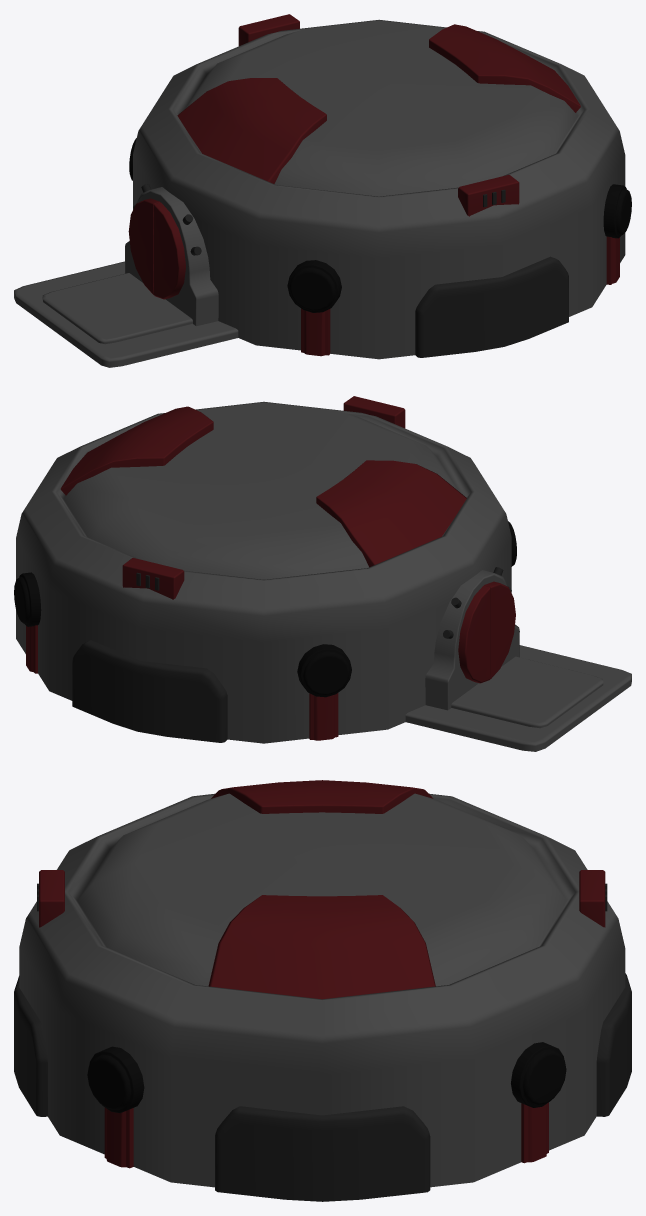
The model's file is colony_Main_house.glb.
3 views of the same model, one above another, from view 1: azimuth 30°, elevation 25°; view 2: azimuth 150°, elevation 25°; view 3: azimuth 270°, elevation 25° (orthographic). The views are drawn at different scales.
Parts seen in each view (by area): view 1: Main_house; view 2: Main_house; view 3: Main_house.
Boxes of the visible parts, bbox=[...] form: Main_house: bbox=[14, 14, 631, 367]; Main_house: bbox=[14, 396, 631, 751]; Main_house: bbox=[14, 780, 631, 1201].
Size of the model in its own units: 1385 by 443 by 1119.
1 material, 1 textured.
